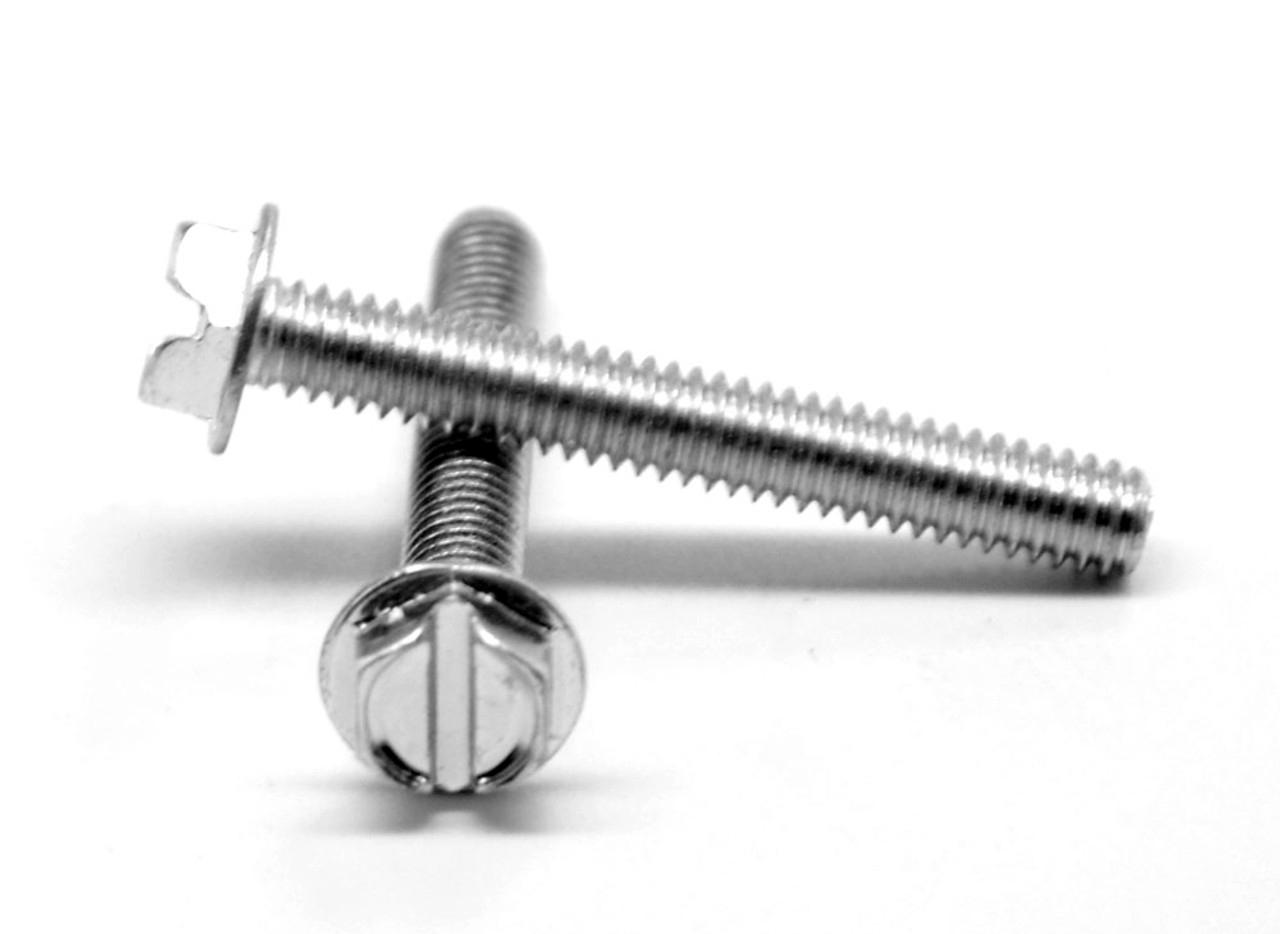slotted: (323, 571, 587, 815)
